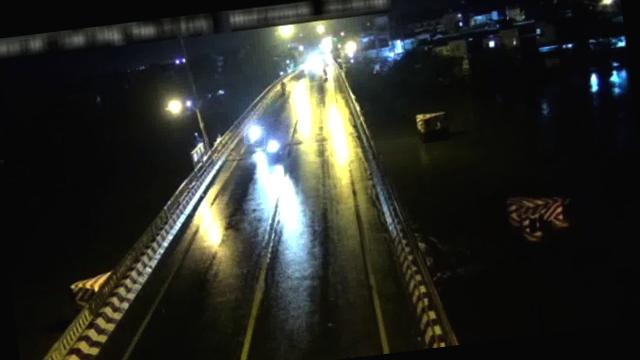Bike: (244, 124, 266, 145), (264, 139, 282, 156)
